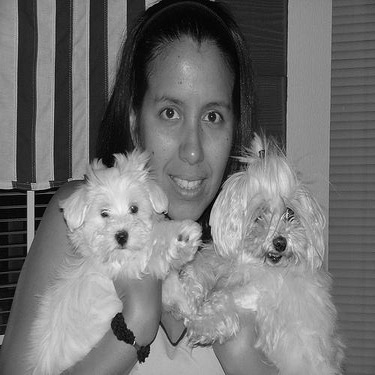dog: (152, 120, 349, 372), (10, 139, 207, 371)
